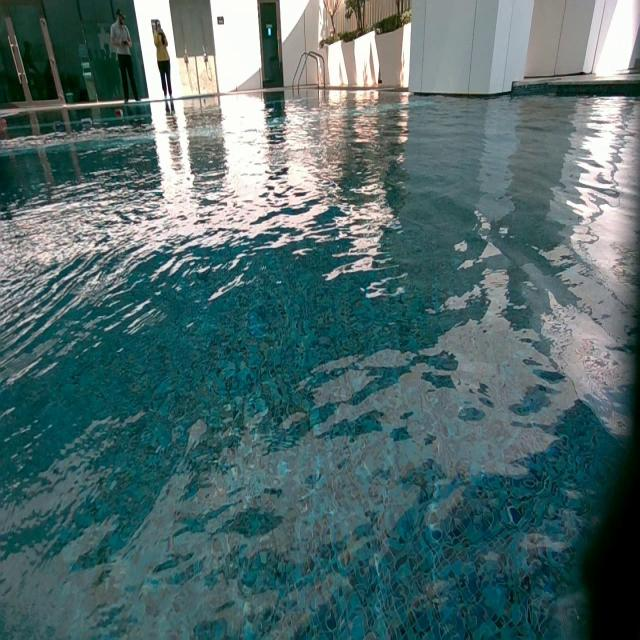Cans: (80, 117, 92, 126), (114, 109, 122, 116), (53, 121, 61, 128)
